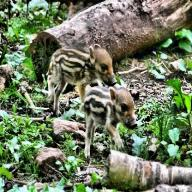boar: (31, 34, 120, 106), (76, 82, 142, 145)
